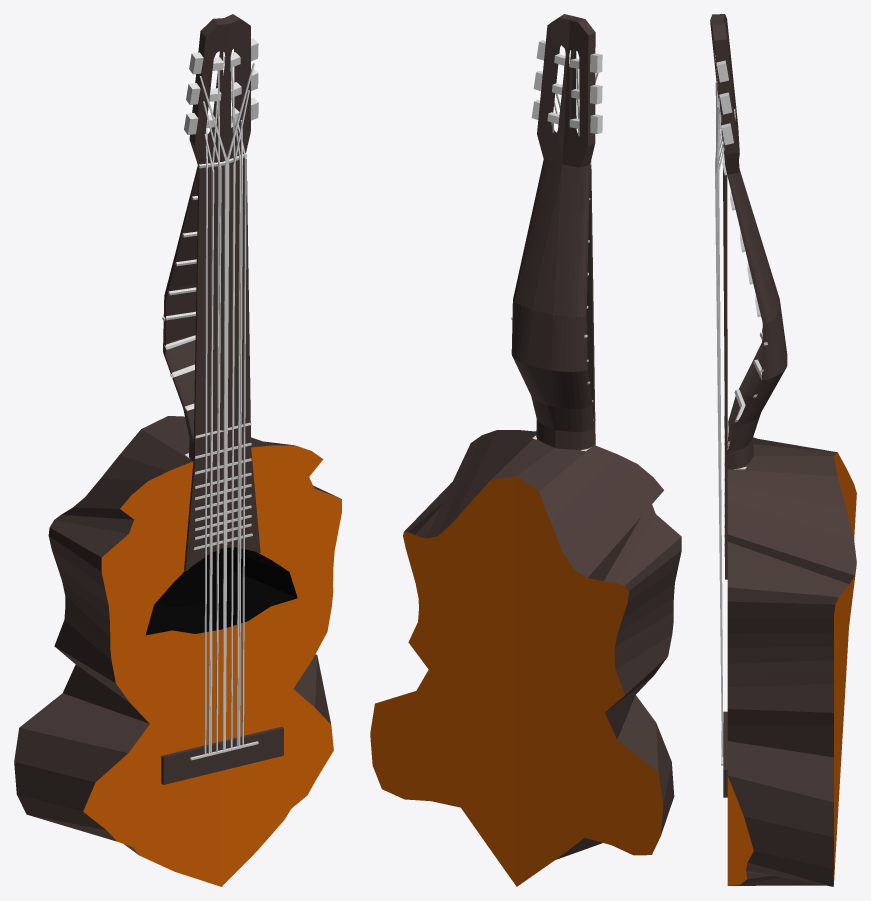
File: guitar_stage3.fbx
3 views of the same model, side by side, from view 1: azimuth 30°, elevation 25°; view 2: azimuth 150°, elevation 25°; view 3: azimuth 270°, elevation 25° (orthographic). The views are drawn at different scales.
Parts seen in each view (by area): view 1: guitar_stage3; view 2: guitar_stage3; view 3: guitar_stage3.
Part boxes in pixels (bbox=[...]): guitar_stage3: bbox=[14, 14, 341, 886]; guitar_stage3: bbox=[370, 14, 681, 886]; guitar_stage3: bbox=[710, 14, 856, 886].
Bounding box in the file's own units: 77.31 × 209 × 32.05.
